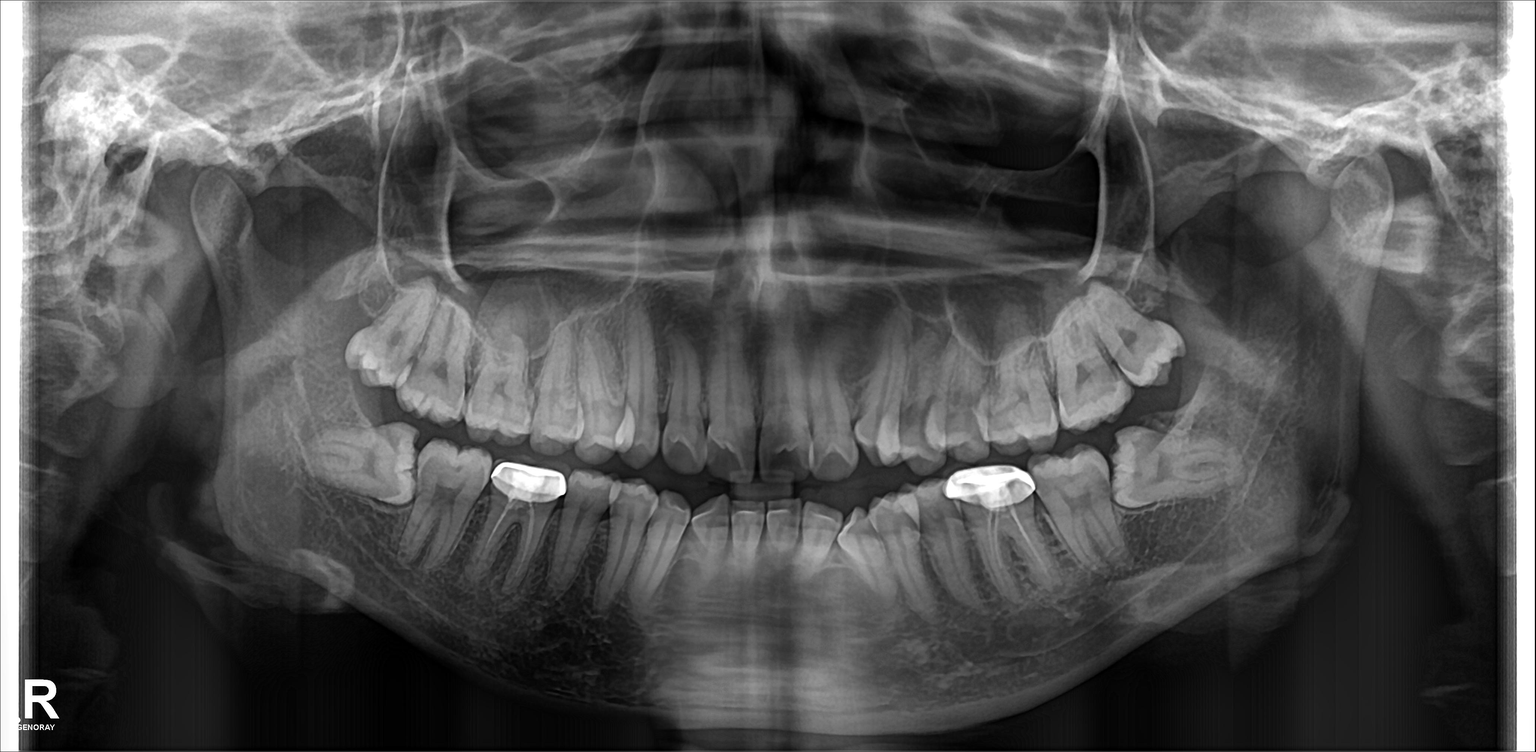Dental Caries: (659, 436, 703, 477), (810, 441, 846, 486), (767, 439, 800, 480), (710, 441, 742, 477), (1117, 324, 1143, 353)
Endodontically Treated Tooth: (966, 477, 1038, 630), (495, 465, 560, 603)
Impacted Third Molar: (1112, 426, 1250, 503), (1084, 285, 1187, 375), (305, 436, 420, 505)
